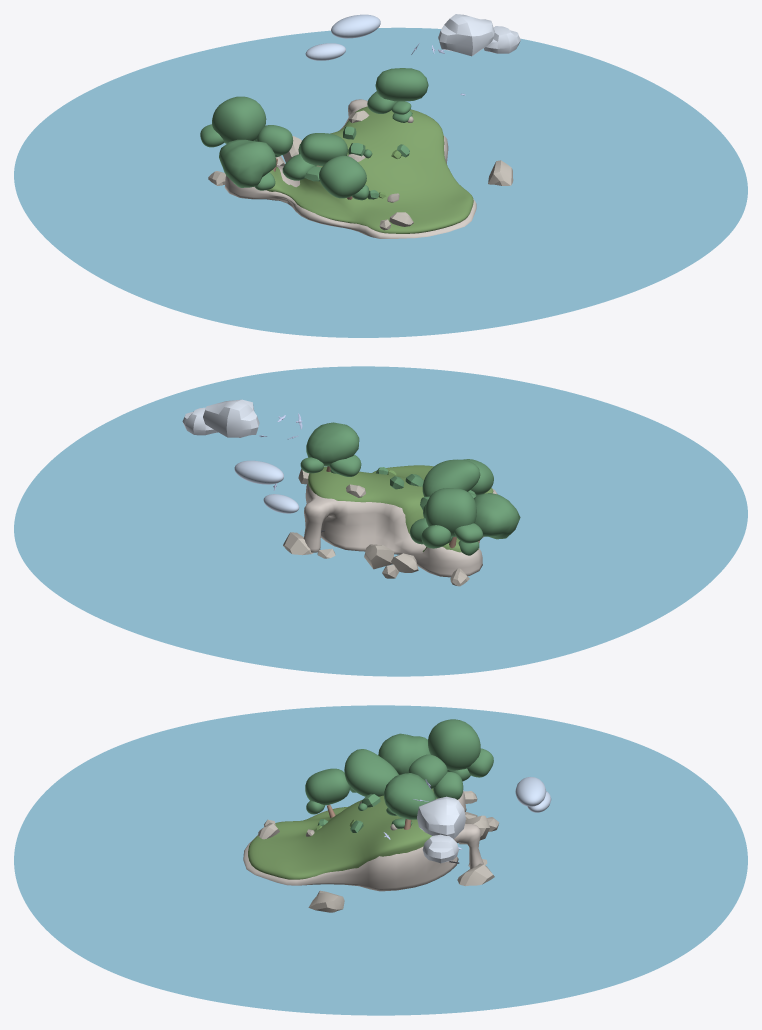
File: island2.gltf
3 views of the same model, one above another, from view 1: azimuth 30°, elevation 25°; view 2: azimuth 150°, elevation 25°; view 3: azimuth 270°, elevation 25° (orthographic). The views are drawn at different scales.
Parts seen in each view (by area): view 1: Ocean, Island Grass, Cube (×6), Cloud (×4), Island Rock Base, Cube 4; view 2: Ocean, Island Rock Base, Cube (×4), Cloud (×4), Island Grass, Cube 2 (×2); view 3: Ocean, Cube (×6), Island Grass, Island Rock Base, Cloud (×3), Cube 4, Cube 15, Cube 3.
Boxes of the visible parts, x1,y1,x2,y2 form: Ocean: (14,27,747,337); Island Grass: (266,106,473,233); Cube (×6): (212,68,428,198); Cloud (×4): (305,14,520,60); Island Rock Base: (224,99,476,238); Cube 4: (282,154,315,180); Ocean: (14,366,747,676); Island Rock Base: (303,482,497,577); Cube (×4): (306,422,520,539); Cloud (×4): (182,399,299,513); Island Grass: (308,465,493,552); Cube 2 (×2): (364,525,450,569); Ocean: (14,705,747,1015); Cube (×6): (305,719,480,819); Island Grass: (248,788,436,879); Island Rock Base: (243,790,483,891); Cloud (×3): (417,777,546,863); Cube 4: (433,771,463,799); Cube 15: (308,890,344,912); Cube 3: (457,863,494,886).
Size of the model in its own units: 64.55 by 13.2 by 64.55.
